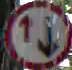Two way: (4, 2, 71, 65)
